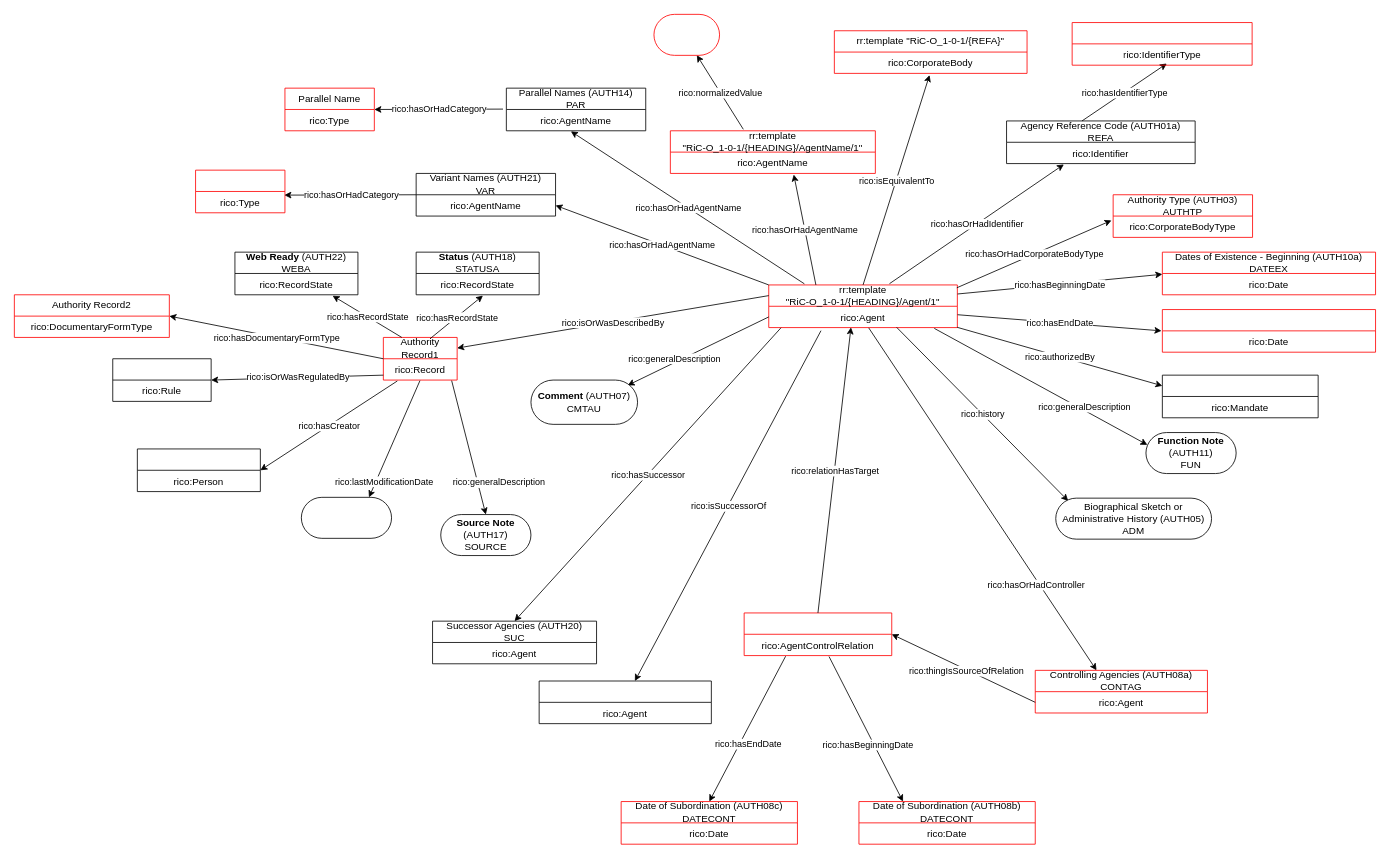
Image size: 1390x861. Some labels were removed from this diagram. Each missing label, with the box of its shape:
Archivist (AUTH02) ARCHAU: (137, 448, 260, 492)
Authorizing Agent (AUTH04) AA: (1162, 374, 1318, 418)
Controlling Agency Relation: (743, 612, 892, 656)
Date (AUTH09) MOD_DATE: (301, 497, 392, 538)
Dates of Existence - End (AUTH10b) DATEEX: (1162, 309, 1376, 352)
Predecessor Agencies (AUTH15) PRED: (538, 680, 711, 724)
rml:reference "NAME": (653, 14, 720, 55)
rr:template "schema/authority/Agent Identifier": (1071, 22, 1252, 65)
Rules (AUTH16) RULES: (112, 358, 211, 401)
Variant Name: (195, 169, 285, 213)
